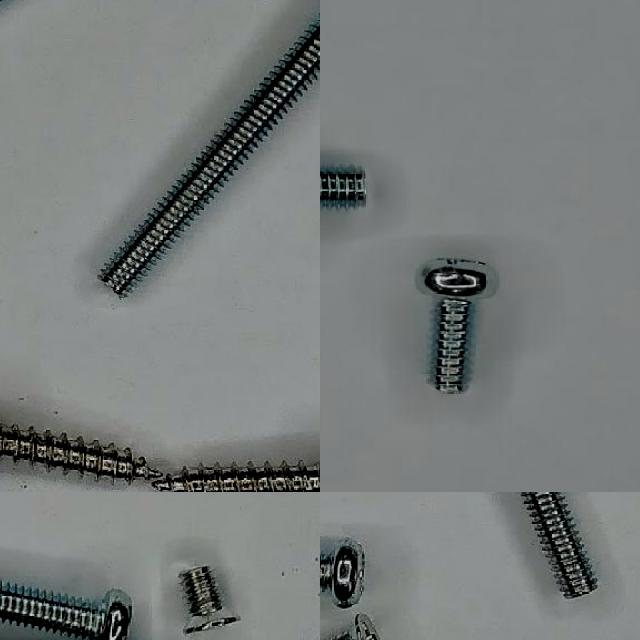Screw: (99, 14, 320, 295), (415, 259, 498, 394), (0, 426, 161, 483), (522, 492, 597, 598), (0, 582, 131, 640), (152, 462, 320, 492), (179, 566, 240, 634), (0, 427, 61, 467), (320, 161, 366, 207), (326, 615, 379, 640)
